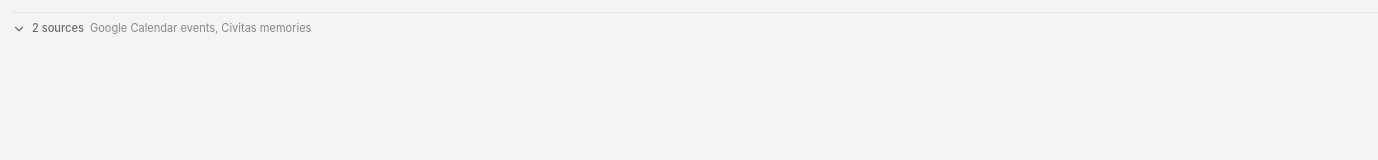
it: SourceCitationFooter › uses branded icons for other connector and civitas sources
What coordinates should you click on to do the following:
click the button "2 sources Google Calendar events, Civitas memories"
I would click on:
 (162, 29)
Its box is [12,21,311,36].
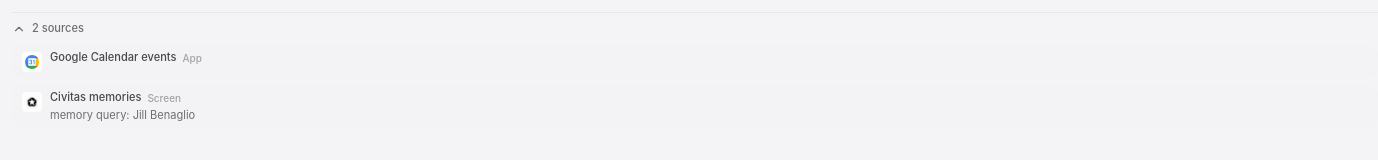
expect the picture next to "Google Calendar events" is shown: met, box [25,56,39,70]
expect the picture next to "Civitas memories" is shown: met, box [25,96,39,110]
